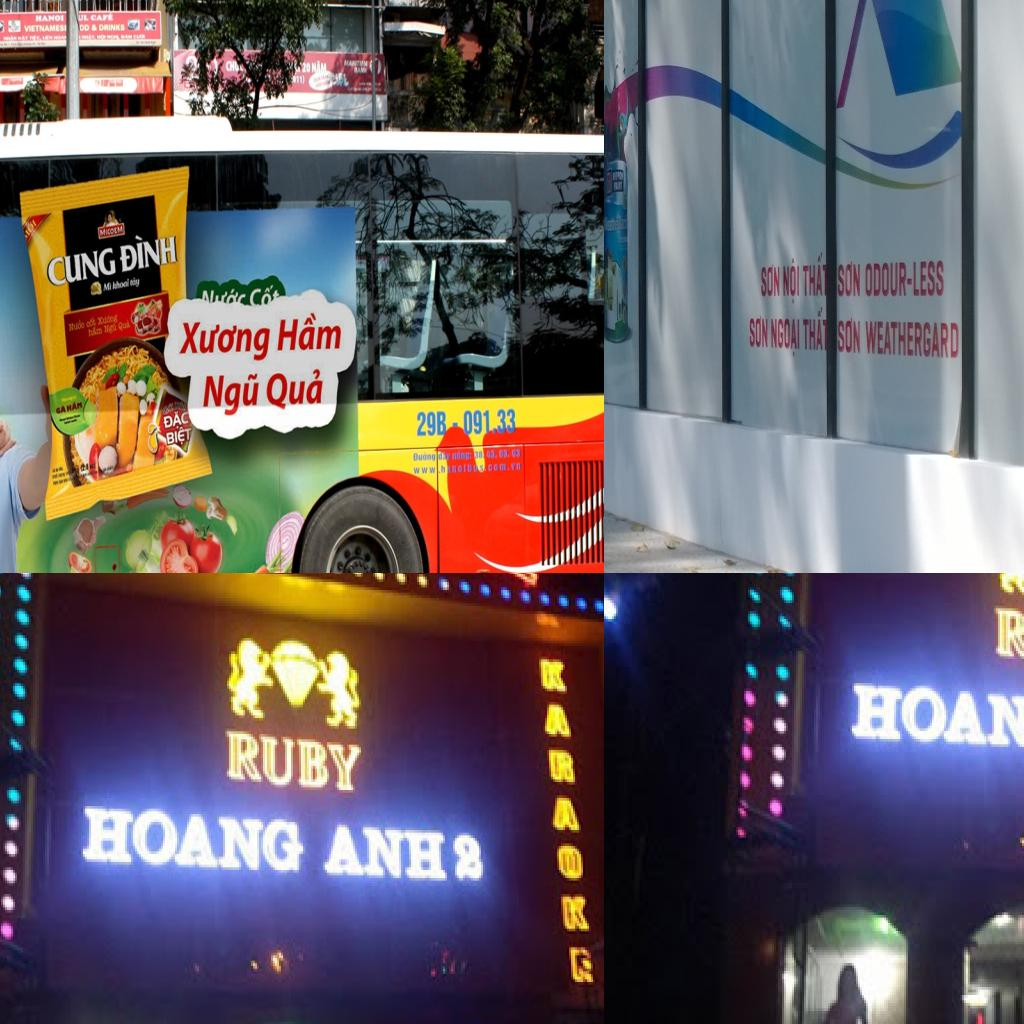text: (73, 803, 307, 881), (842, 680, 1024, 757), (221, 724, 365, 796), (315, 825, 457, 886), (864, 318, 960, 362), (178, 321, 274, 363), (44, 246, 118, 288), (278, 309, 344, 352), (120, 229, 178, 275), (266, 366, 326, 410), (203, 373, 260, 419), (990, 600, 1024, 672), (863, 258, 908, 299), (462, 408, 516, 436), (414, 461, 522, 475), (912, 256, 946, 298), (553, 843, 585, 886), (537, 660, 571, 700), (770, 314, 801, 357), (543, 702, 575, 742), (549, 798, 583, 835), (800, 248, 824, 299), (547, 748, 577, 788), (802, 303, 824, 357), (561, 897, 593, 934), (836, 259, 862, 299), (782, 255, 801, 306), (837, 316, 861, 355), (416, 410, 447, 438), (759, 261, 781, 299), (162, 406, 190, 434), (748, 314, 769, 351), (166, 423, 193, 450), (248, 282, 276, 308), (473, 448, 521, 459), (604, 213, 628, 233), (96, 311, 119, 327), (23, 216, 37, 242), (24, 24, 64, 33), (100, 225, 124, 237), (68, 317, 86, 333), (98, 23, 126, 33), (413, 451, 436, 463), (66, 397, 83, 413), (311, 60, 328, 75), (117, 316, 131, 334), (162, 400, 176, 417), (35, 15, 64, 23), (452, 450, 472, 461), (90, 13, 114, 22), (104, 323, 118, 338), (88, 324, 104, 337), (112, 279, 130, 290), (224, 60, 240, 72), (84, 315, 97, 329), (291, 74, 306, 86), (55, 402, 67, 417), (344, 60, 369, 67), (438, 450, 452, 462), (174, 401, 188, 412), (300, 61, 312, 73), (130, 277, 141, 289), (81, 34, 97, 42), (120, 33, 133, 42), (106, 34, 120, 42), (354, 67, 368, 75), (78, 23, 90, 32), (312, 74, 322, 84), (314, 81, 324, 91), (320, 72, 331, 81), (103, 282, 112, 293), (53, 34, 67, 41), (132, 33, 146, 40), (30, 34, 42, 42), (42, 34, 54, 42), (322, 79, 332, 88), (3, 35, 17, 41), (78, 15, 90, 21), (18, 35, 28, 42), (96, 34, 106, 41), (91, 24, 98, 33)
